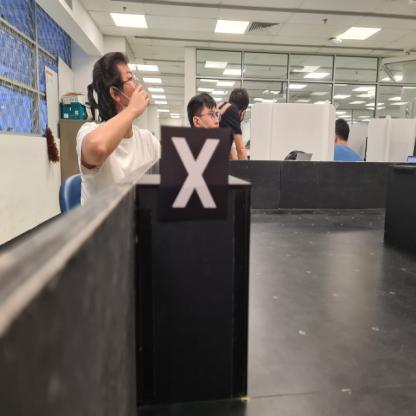x: (160, 124, 230, 220)
